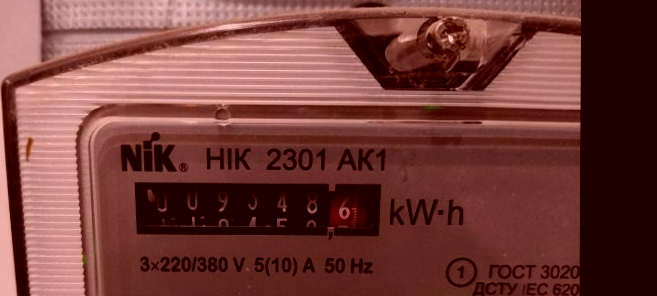0: (153, 187, 169, 213), (184, 185, 198, 211)
3: (245, 186, 259, 211)
4: (272, 184, 290, 214)
6: (335, 192, 352, 221)
8: (304, 187, 319, 215)
9: (215, 188, 229, 215)
screen: (116, 167, 394, 247)
